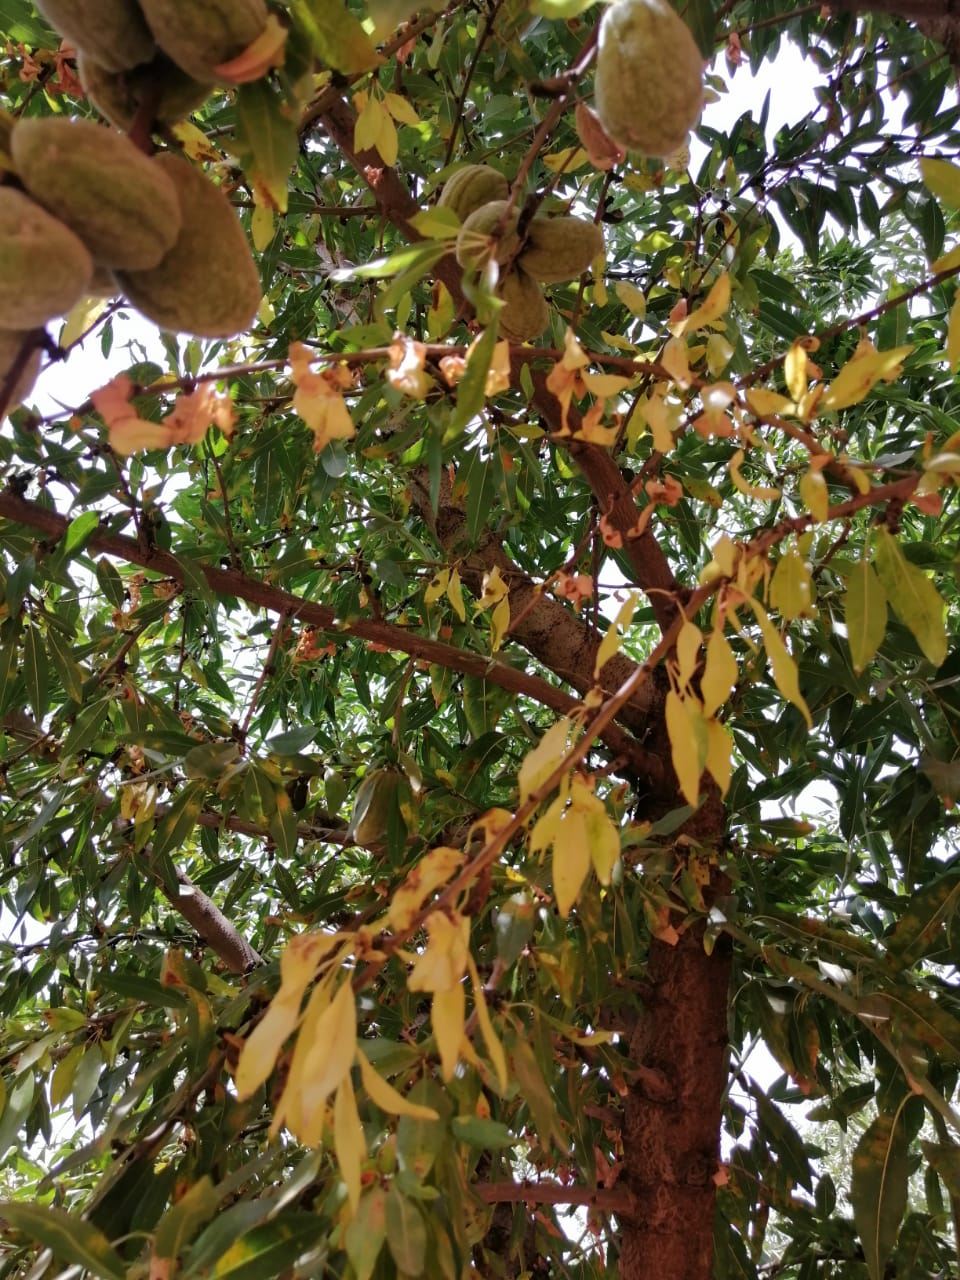chancre fusicocum: (237, 521, 813, 1188), (90, 285, 829, 467)
